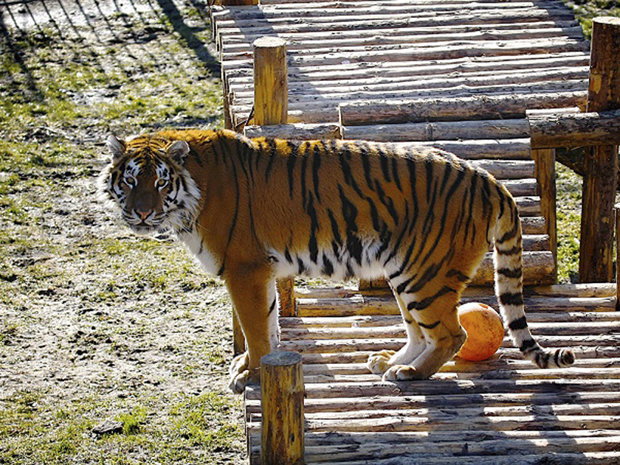Tiger: (96, 122, 588, 384)
